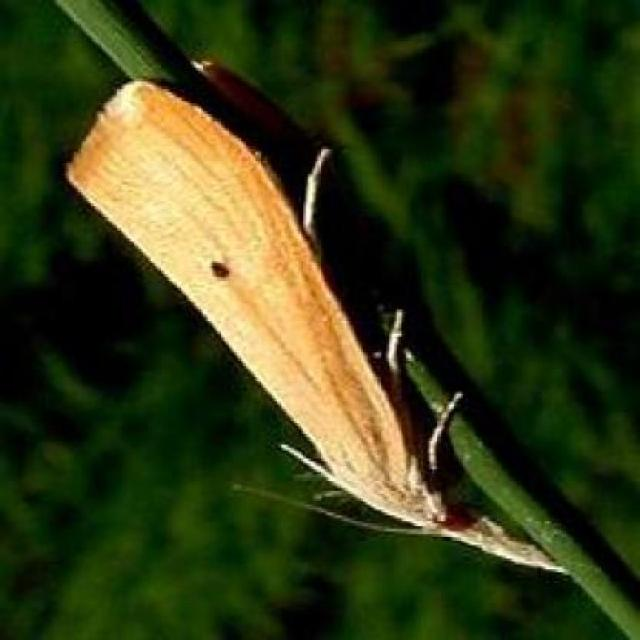stem-borer: (55, 57, 577, 583)
